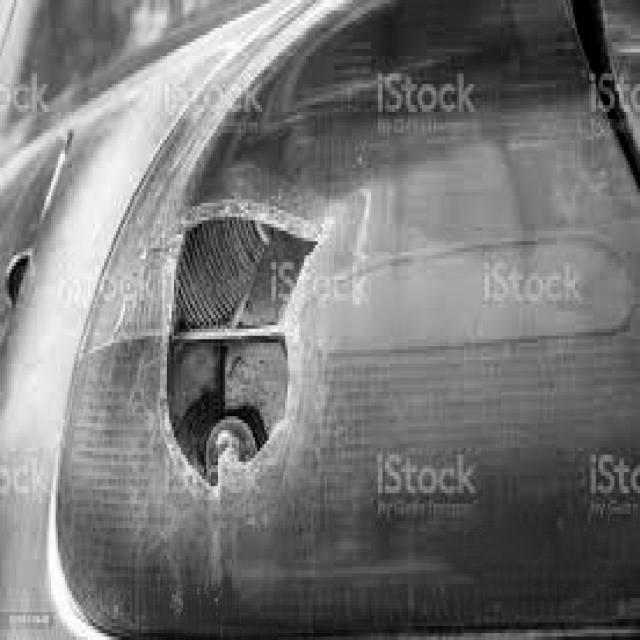Taillight-Damage: (46, 0, 486, 636)
